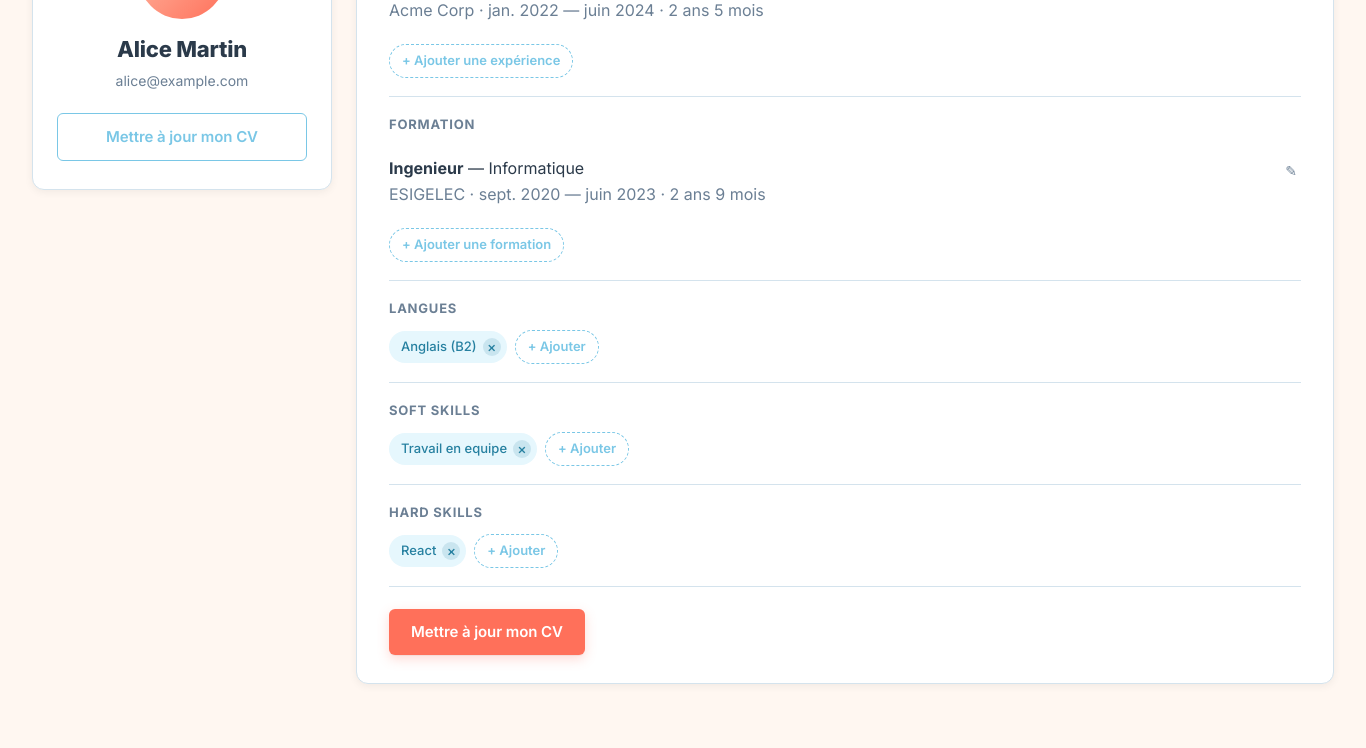
Test: ProfilePage › removes_skill_chip_and_shows_error_toast_when_put_fails
(page scrolled)
expect the heading "Hard skills" is shown: met, box [389,504,483,520]
Click the button "+ Ajouter" next to "React" at (516, 551), box [474,534,558,568]
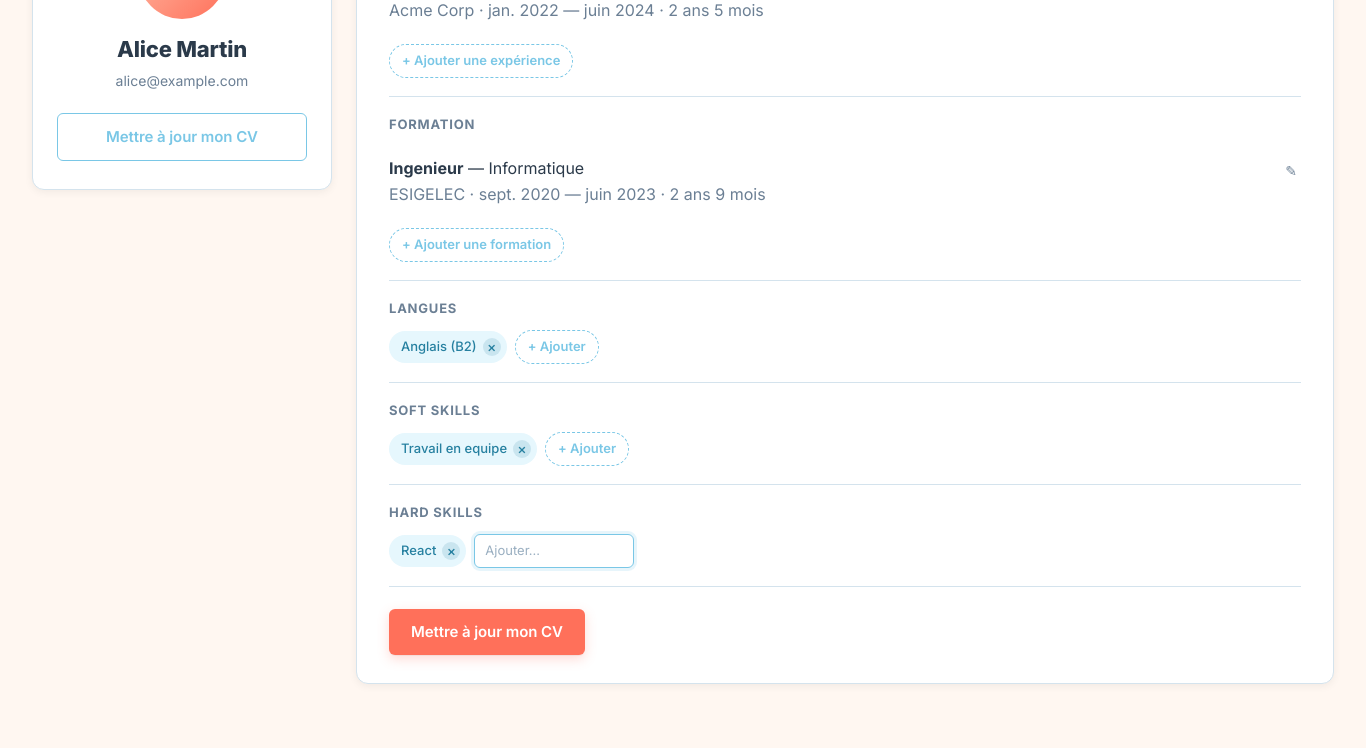
Type "Vue" into the field with placeholder "Ajouter..." at (554, 551), box [474,534,634,568]
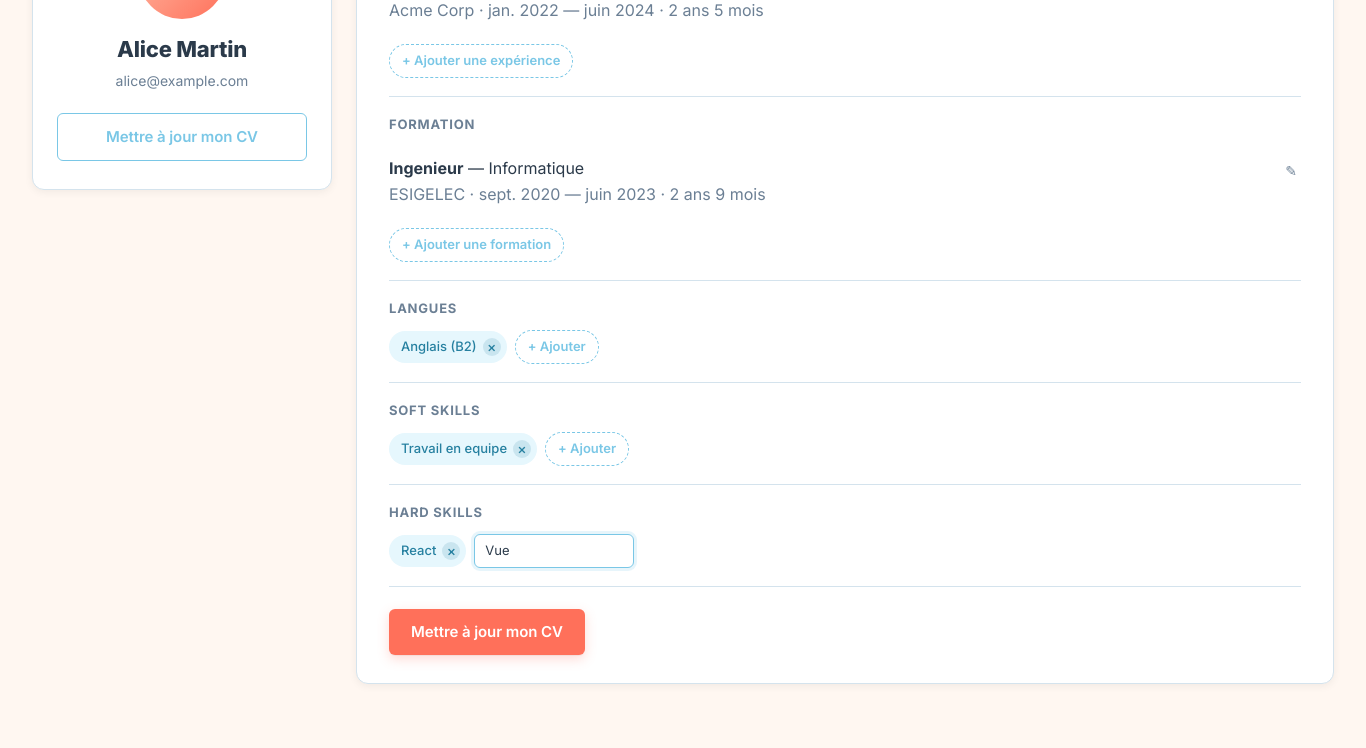
Press Enter
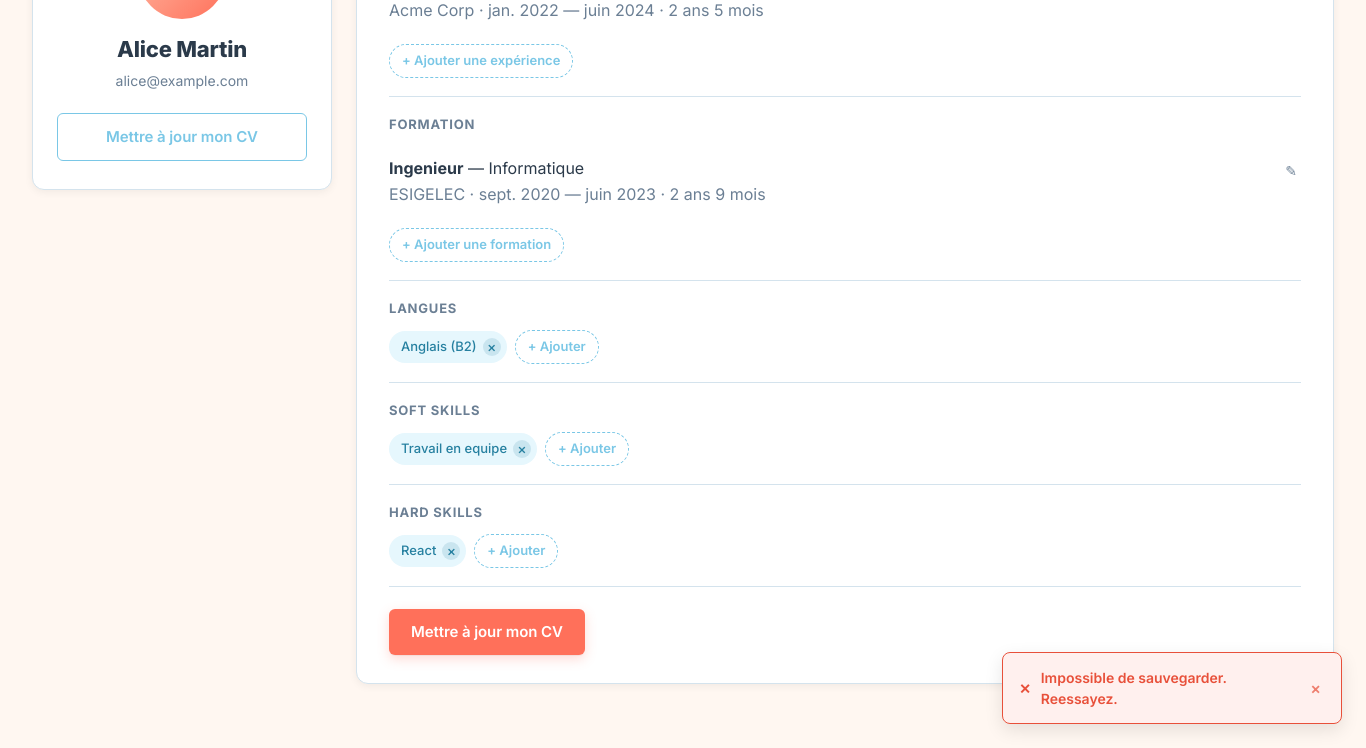
expect the text "Vue" is not shown: met
expect the message shows "Impossible de sauvegarder": met, box [1041,669,1227,707]
